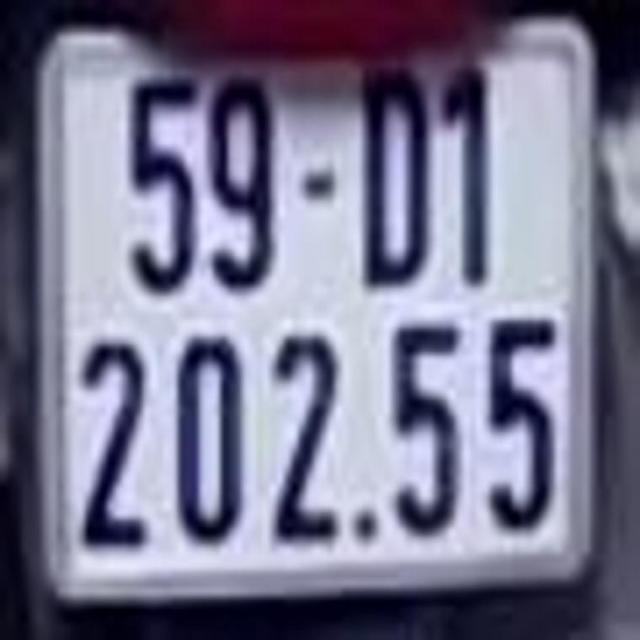0: (176, 338, 246, 545)
1: (435, 64, 487, 284)
2: (78, 337, 148, 546), (275, 332, 336, 535)
5: (124, 78, 200, 284), (392, 314, 459, 528), (490, 310, 554, 530)
9: (208, 76, 280, 292)
D: (357, 68, 423, 276)
